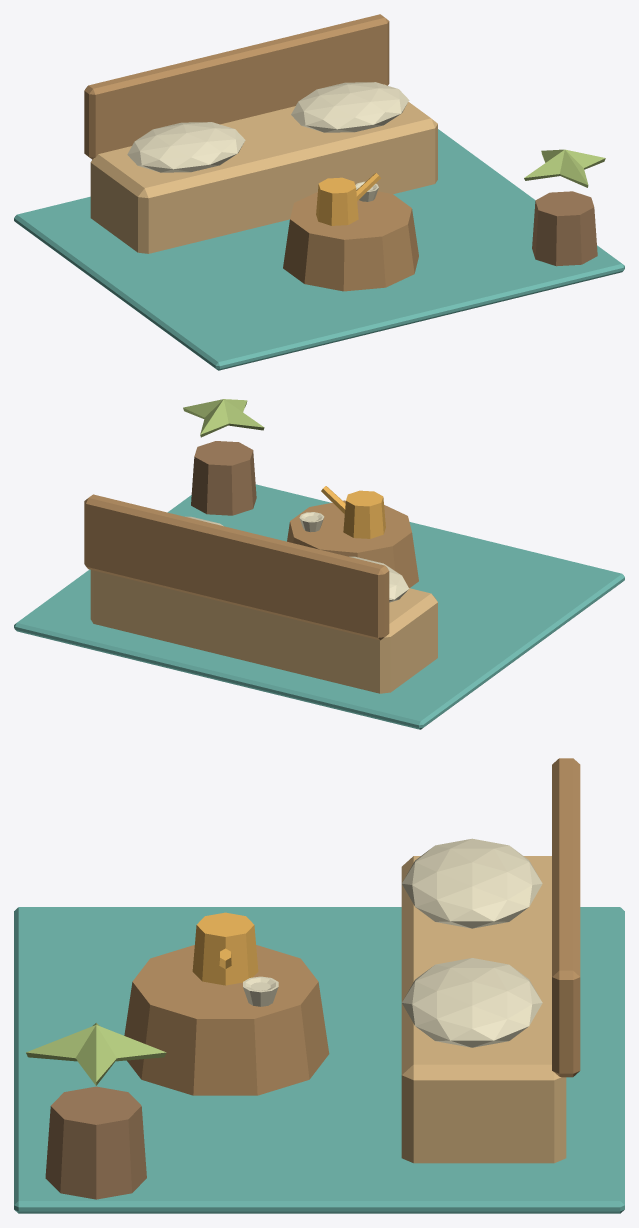
File: CC_RestRoom.fbx
The picture shows the model from 3 angles, top to bottom: view 1: azimuth 30°, elevation 25°; view 2: azimuth 150°, elevation 25°; view 3: azimuth 270°, elevation 25°; orthographic projection. The views are drawn at different scales.
Parts seen in each view (by area): view 1: Rest rug, Low bench, Bench back, Tea table, Cushion, Cushion.001, Pot.002, Teapot, Plant leaf.001, Plant leaf, Plant leaf.003; view 2: Rest rug, Bench back, Low bench, Tea table, Pot.002, Teapot, Plant leaf.001, Plant leaf, Cushion; view 3: Rest rug, Low bench, Tea table, Pot.002, Cushion, Cushion.001, Bench back, Teapot, Plant leaf, Plant leaf.001, Plant leaf.002, Cup (+1 smaller).
Part boxes in pixels (left/top/right/bottom): Rest rug: left=14, top=129, right=624, bottom=370; Low bench: left=90, top=84, right=437, bottom=253; Bench back: left=84, top=14, right=389, bottom=159; Tea table: left=283, top=191, right=418, bottom=291; Cushion: left=127, top=122, right=245, bottom=172; Cushion.001: left=291, top=82, right=409, bottom=132; Pot.002: left=532, top=191, right=597, bottom=266; Teapot: left=316, top=177, right=358, bottom=225; Plant leaf.001: left=535, top=149, right=605, bottom=175; Plant leaf: left=560, top=150, right=588, bottom=187; Plant leaf.003: left=524, top=150, right=600, bottom=180; Rest rug: left=14, top=484, right=624, bottom=729; Bench back: left=84, top=494, right=389, bottom=640; Low bench: left=90, top=570, right=437, bottom=693; Tea table: left=287, top=500, right=418, bottom=587; Pot.002: left=191, top=441, right=256, bottom=515; Teapot: left=343, top=490, right=385, bottom=538; Plant leaf.001: left=187, top=399, right=264, bottom=430; Plant leaf: left=200, top=399, right=247, bottom=435; Cushion: left=349, top=556, right=409, bottom=602; Rest rug: left=14, top=907, right=624, bottom=1213; Low bench: left=401, top=856, right=566, bottom=1163; Tea table: left=124, top=945, right=329, bottom=1095; Pot.002: left=45, top=1086, right=146, bottom=1199; Cushion: left=402, top=838, right=542, bottom=928; Cushion.001: left=402, top=958, right=542, bottom=1047; Bench back: left=552, top=758, right=580, bottom=1077; Teapot: left=192, top=912, right=258, bottom=985; Plant leaf: left=26, top=1025, right=166, bottom=1061; Plant leaf.001: left=76, top=1023, right=116, bottom=1085; Plant leaf.002: left=26, top=1026, right=163, bottom=1060; Cup: left=243, top=976, right=278, bottom=1006.
Bounding box in the file's own units: 3.05 × 0.95 × 2.6.
